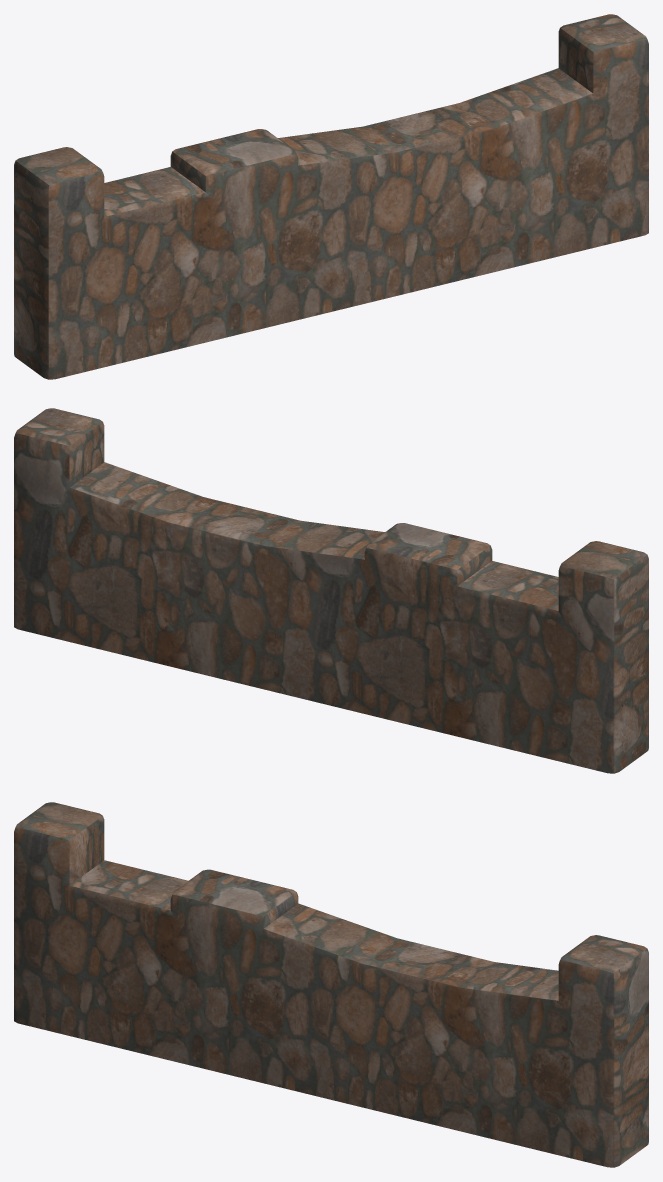
Rendered from fENCE.fbx.
3 renders of one model, top to bottom at view 1: azimuth 30°, elevation 25°; view 2: azimuth 150°, elevation 25°; view 3: azimuth 330°, elevation 25°, orthographic.
Visible parts, largest first — view 1: Cube.003; view 2: Cube.003; view 3: Cube.003.
Part boxes in pixels (x1=…): Cube.003: x1=14, y1=14, x2=648, y2=379; Cube.003: x1=14, y1=408, x2=648, y2=773; Cube.003: x1=14, y1=802, x2=648, y2=1167.
Size of the model in its own units: 815 by 254 by 86.96.
1 material, 1 textured.
